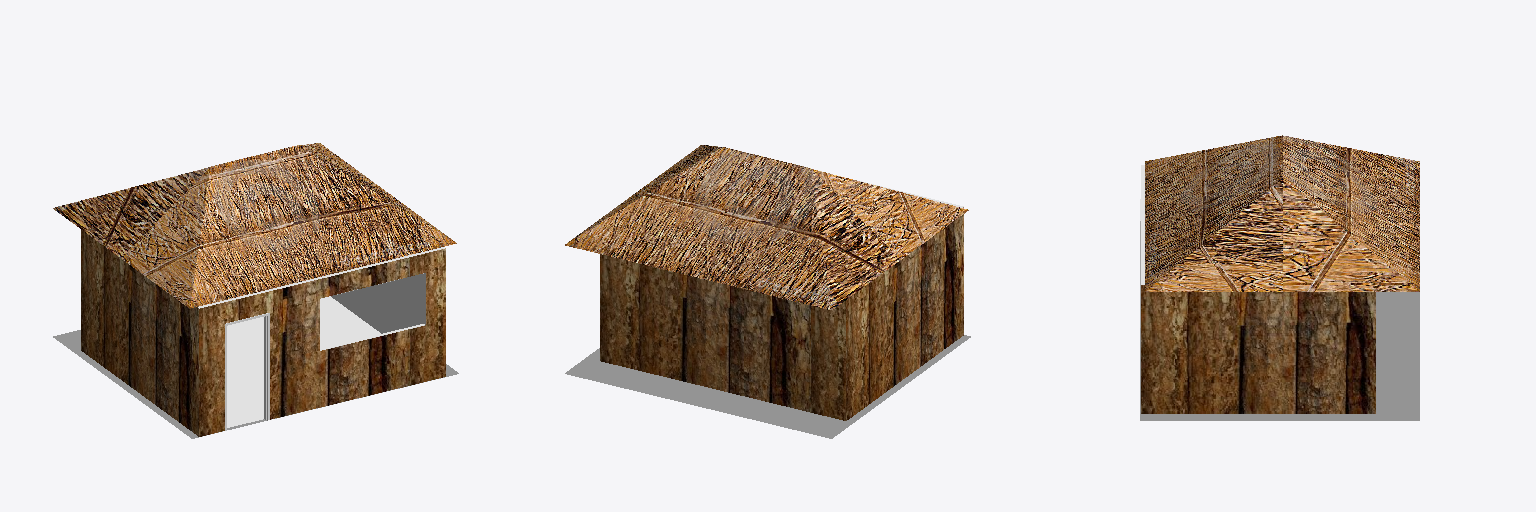
The picture shows the model from 3 angles: view 1: azimuth 30°, elevation 25°; view 2: azimuth 150°, elevation 25°; view 3: azimuth 270°, elevation 25°; orthographic projection.
Parts seen in each view (by area): view 1: PolyMesh_1_None_None_31, wall_2_11, wall_1_5, PolyMesh_1_None_None_30, room_5_26, wall_3_16, ground_1, Montant_28; view 2: PolyMesh_1_None_None_30, wall_4_23, wall_1_5, ground_1, PolyMesh_1_None_None_31; view 3: wall_3_17, PolyMesh_1_None_None_31, PolyMesh_1_None_None_30, ground_1.
Part boxes in pixels (x1,y1,x2,y2): PolyMesh_1_None_None_31: (121, 145, 456, 308); wall_2_11: (199, 248, 445, 436); wall_1_5: (81, 230, 198, 436); PolyMesh_1_None_None_30: (53, 143, 384, 257); room_5_26: (227, 296, 380, 427); wall_3_16: (331, 274, 423, 333); ground_1: (53, 330, 458, 438); Montant_28: (225, 313, 269, 430); PolyMesh_1_None_None_30: (565, 147, 899, 309); wall_4_23: (600, 254, 845, 420); wall_1_5: (846, 207, 963, 420); ground_1: (565, 335, 970, 438); PolyMesh_1_None_None_31: (633, 145, 968, 259); wall_3_17: (1141, 285, 1375, 413); PolyMesh_1_None_None_31: (1145, 135, 1282, 291); PolyMesh_1_None_None_30: (1283, 136, 1419, 291); ground_1: (1140, 292, 1419, 420).
Bounding box in the file's own units: 545 × 386 × 494.
Materials: 6 (2 with a texture image).